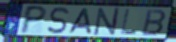A: (67, 8, 93, 35)
B: (141, 8, 168, 37)
L: (119, 9, 138, 36)
N: (93, 7, 121, 37)
P: (19, 4, 49, 35)
S: (46, 7, 71, 36)
